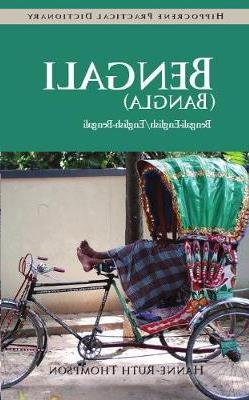Rickshaw: (6, 156, 247, 366)
